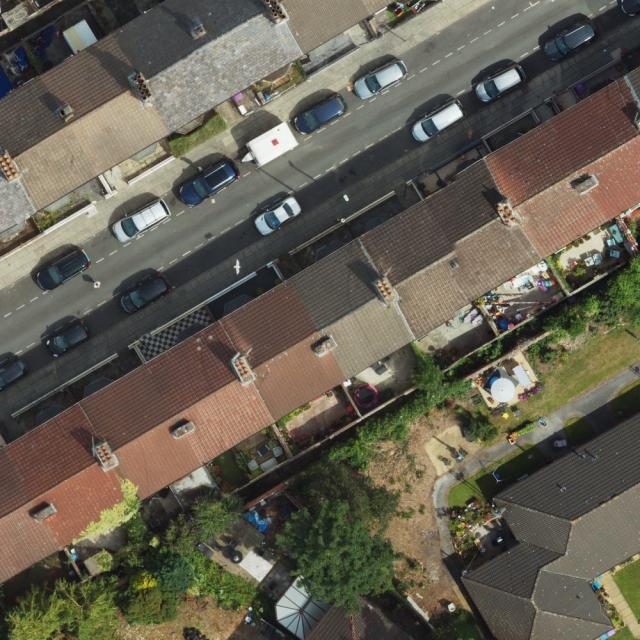roof: (0, 67, 640, 587), (2, 0, 402, 230), (464, 409, 640, 640), (302, 586, 422, 640)
